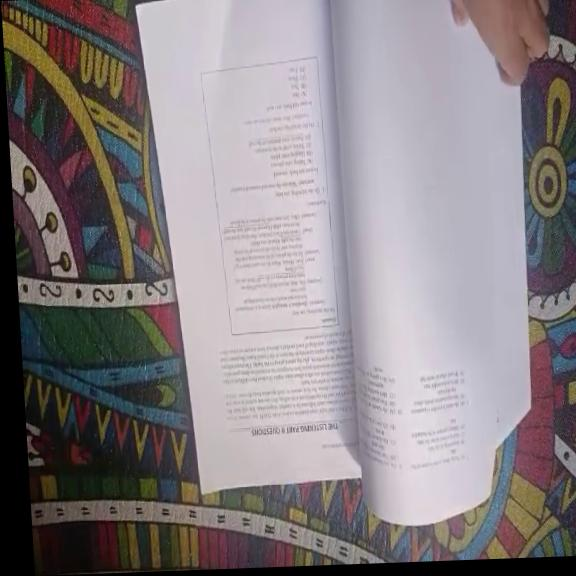Kertas: (169, 0, 383, 486), (281, 22, 490, 480)
